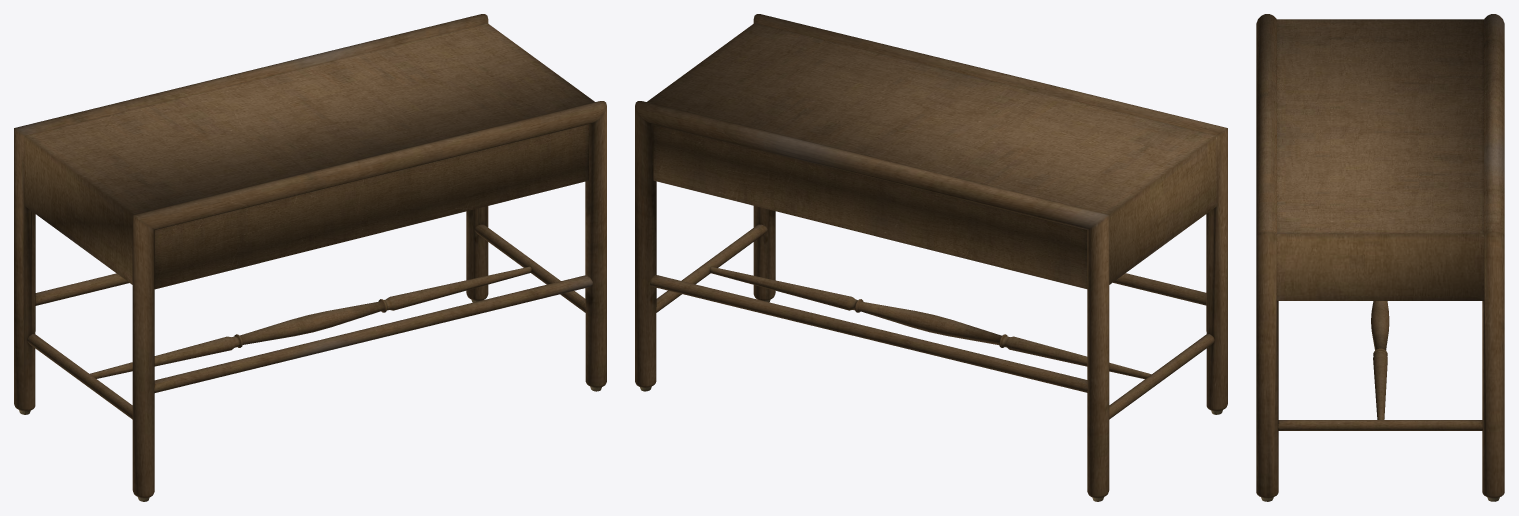
The model's file is small_wooden_table_01.glb.
3 views of the same model, side by side, from view 1: azimuth 30°, elevation 25°; view 2: azimuth 150°, elevation 25°; view 3: azimuth 270°, elevation 25° (orthographic). The views are drawn at different scales.
Parts seen in each view (by area): view 1: small_wooden_table_01; view 2: small_wooden_table_01; view 3: small_wooden_table_01.
Part boxes in pixels (x1,y1,x2,y2): small_wooden_table_01: (14, 14, 606, 501); small_wooden_table_01: (635, 14, 1227, 501); small_wooden_table_01: (1256, 14, 1504, 501).
Size of the model in its own units: 0.9162 by 0.5331 by 0.4399.
1 material, 1 textured.
